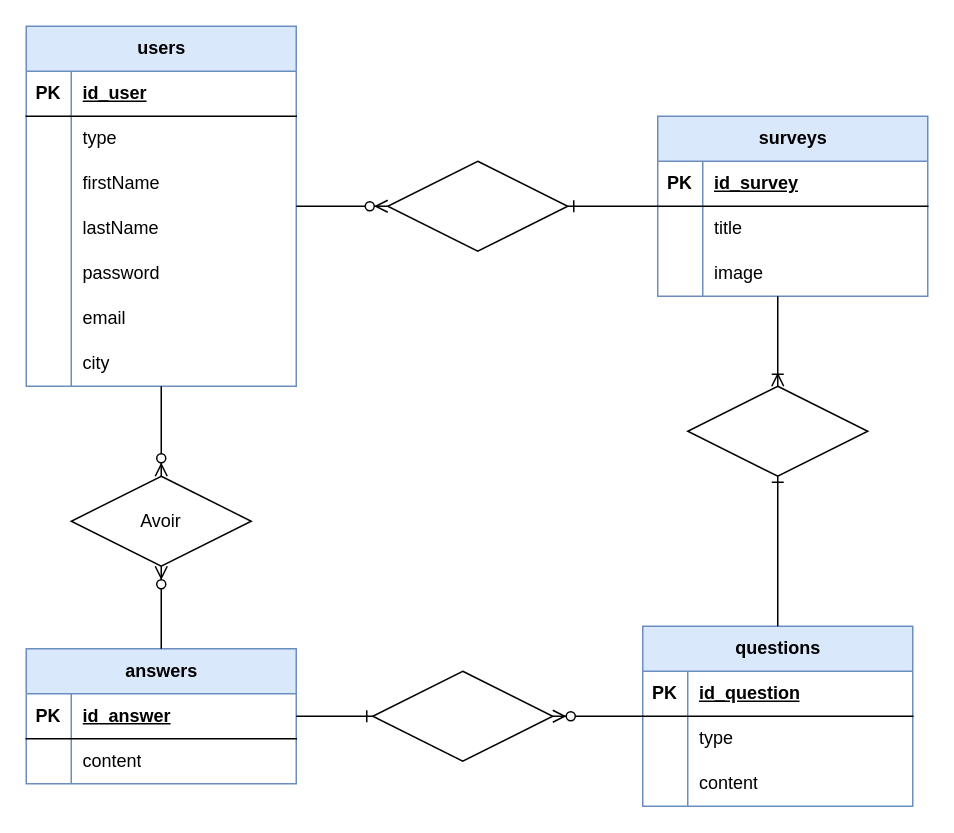
This 954x833 diagram has some shape labels left out. The shapes that lost their labels are listed below. From the top down, each one's centre as x and y in pixels, then its label:
point 477,205: Créer
point 777,430: Posséder
point 462,715: Générer
